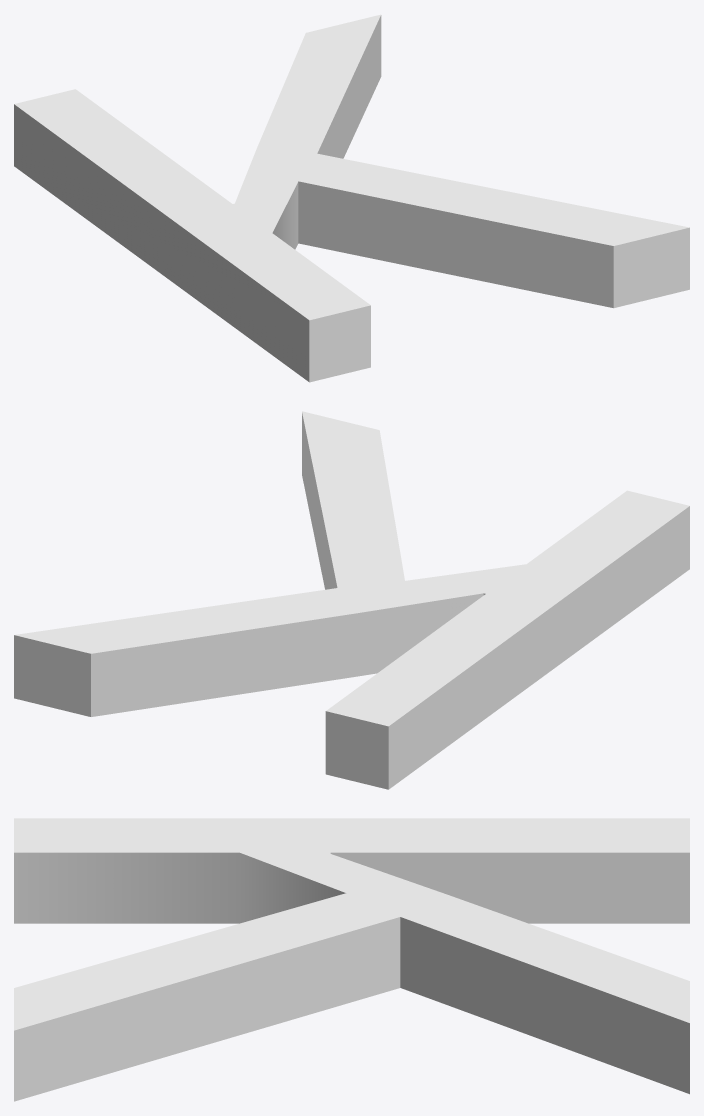
3 renders of one model, top to bottom at view 1: azimuth 30°, elevation 25°; view 2: azimuth 150°, elevation 25°; view 3: azimuth 270°, elevation 25°, orthographic. The views are drawn at different scales.
Parts seen in each view (by area): view 1: K; view 2: K; view 3: K.
Part boxes in pixels (x1,y1,x2,y2): K: [14, 14, 689, 382]; K: [14, 411, 689, 789]; K: [14, 818, 689, 1101].
Size of the model in its own units: 0.161 by 0.0251 by 0.2165.
